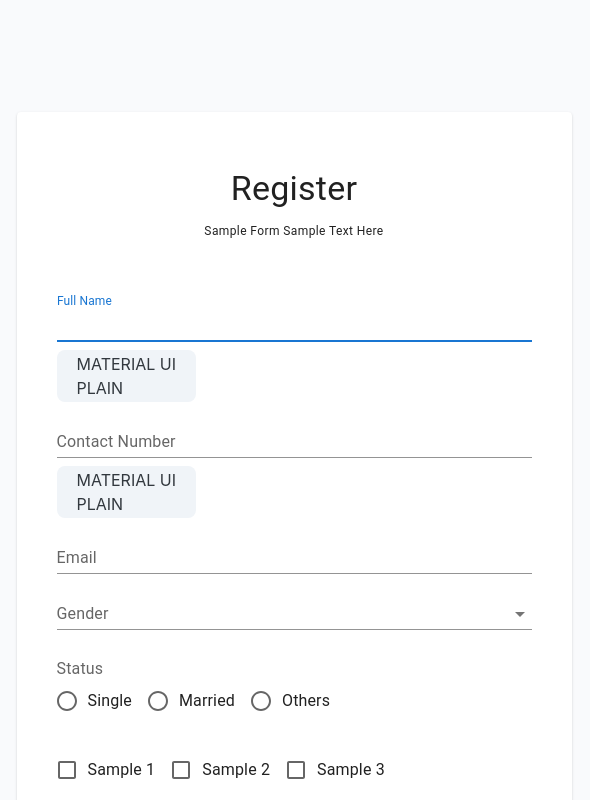
Scenario: Contact Number Field Test › Should display Minimum of 10 number
Type "1212" into the number field labelled "Contact Number". click: (294,442)
box: [56,426,532,458]
(page scrolled)
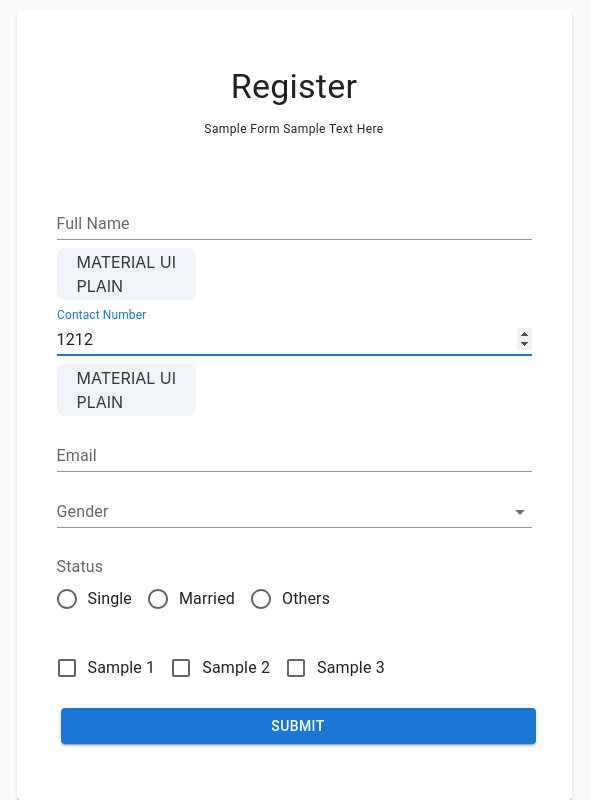
Click the button "SUBMIT". click: (298,726)
box: [60,708,536,744]
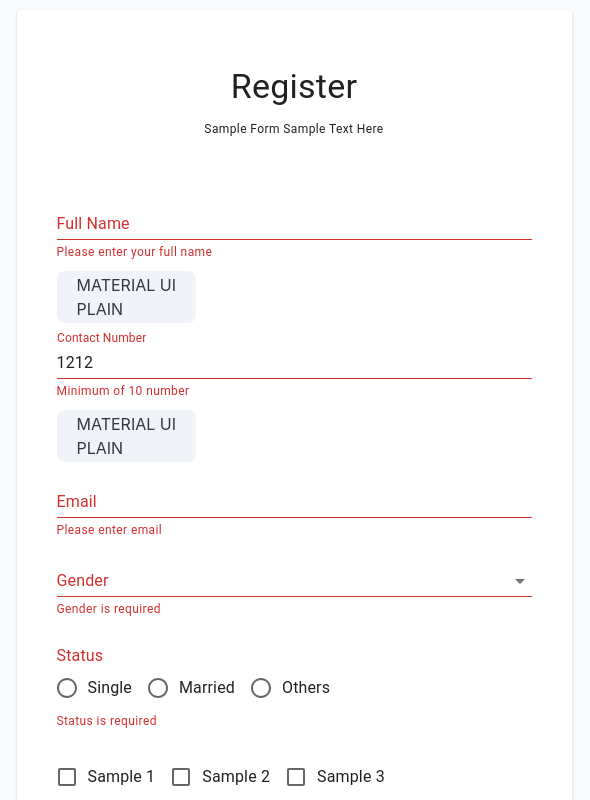
Expected: the text "Minimum of 10 number" is shown, [56,384,190,398]
